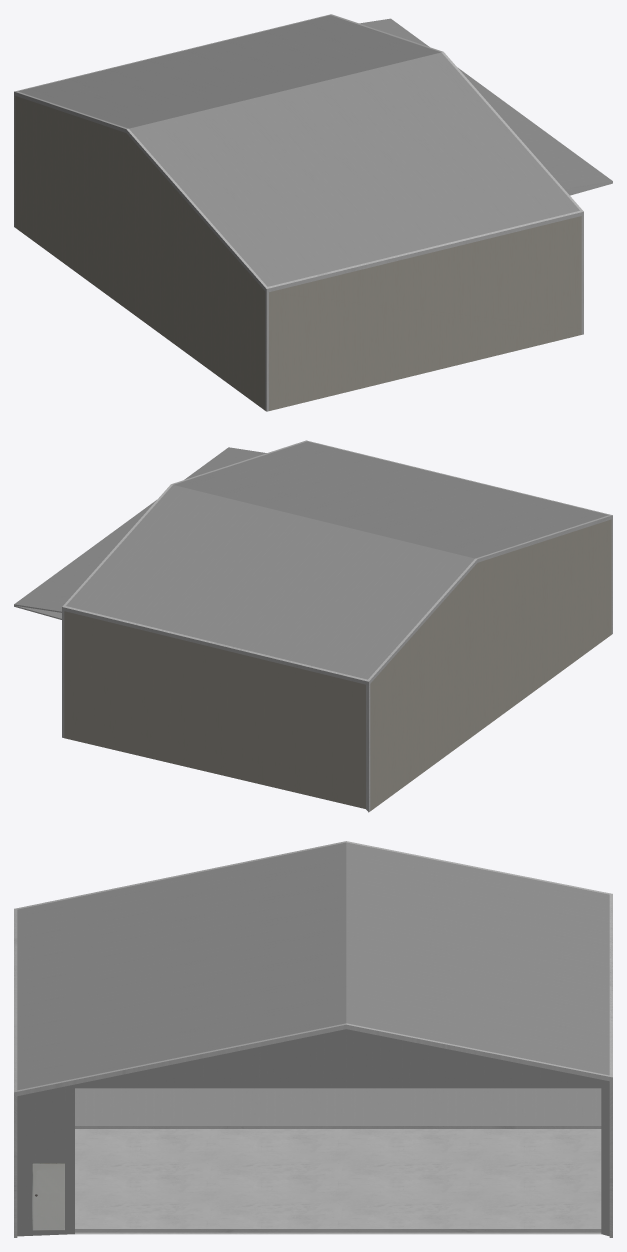
Rendered from gen_open_hangar01-18x13x5-cbj_LOD03.gltf.
The picture shows the model from 3 angles, top to bottom: view 1: azimuth 30°, elevation 25°; view 2: azimuth 150°, elevation 25°; view 3: azimuth 270°, elevation 25°; orthographic projection. The views are drawn at different scales.
Parts seen in each view (by area): view 1: Cube.016; view 2: Cube.016; view 3: Cube.016.
Boxes of the visible parts, bbox=[...] form: Cube.016: bbox=[14, 14, 612, 411]; Cube.016: bbox=[14, 440, 612, 812]; Cube.016: bbox=[14, 841, 612, 1237].
Size of the model in its own units: 15.47 by 7.15 by 18.2.
